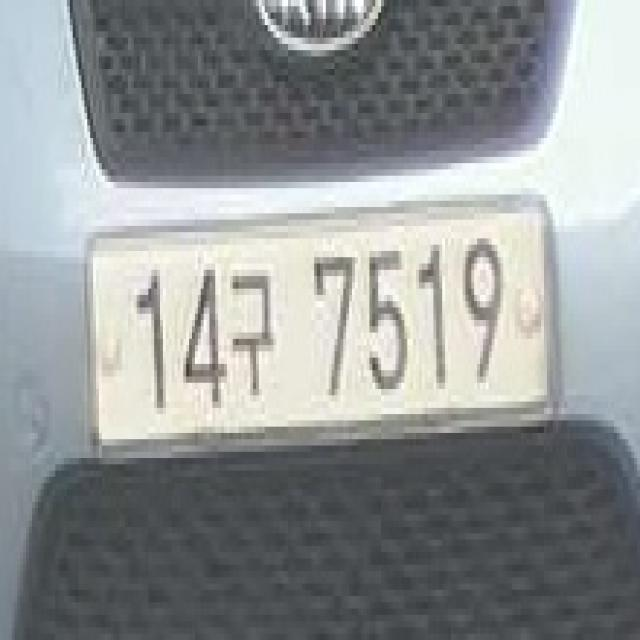1: (413, 226, 466, 420), (131, 264, 177, 426)
4: (180, 251, 230, 433)
5: (361, 232, 419, 414)
7: (308, 232, 361, 414)
9: (462, 220, 515, 414)
gu: (227, 239, 288, 414)
license_plate: (84, 188, 558, 502)
